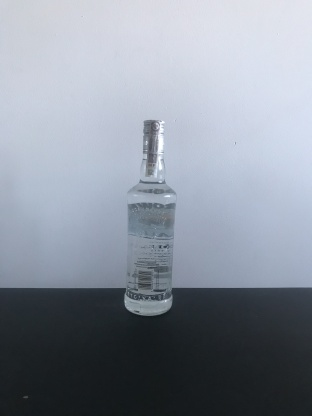nakretka: (139, 115, 167, 156)
